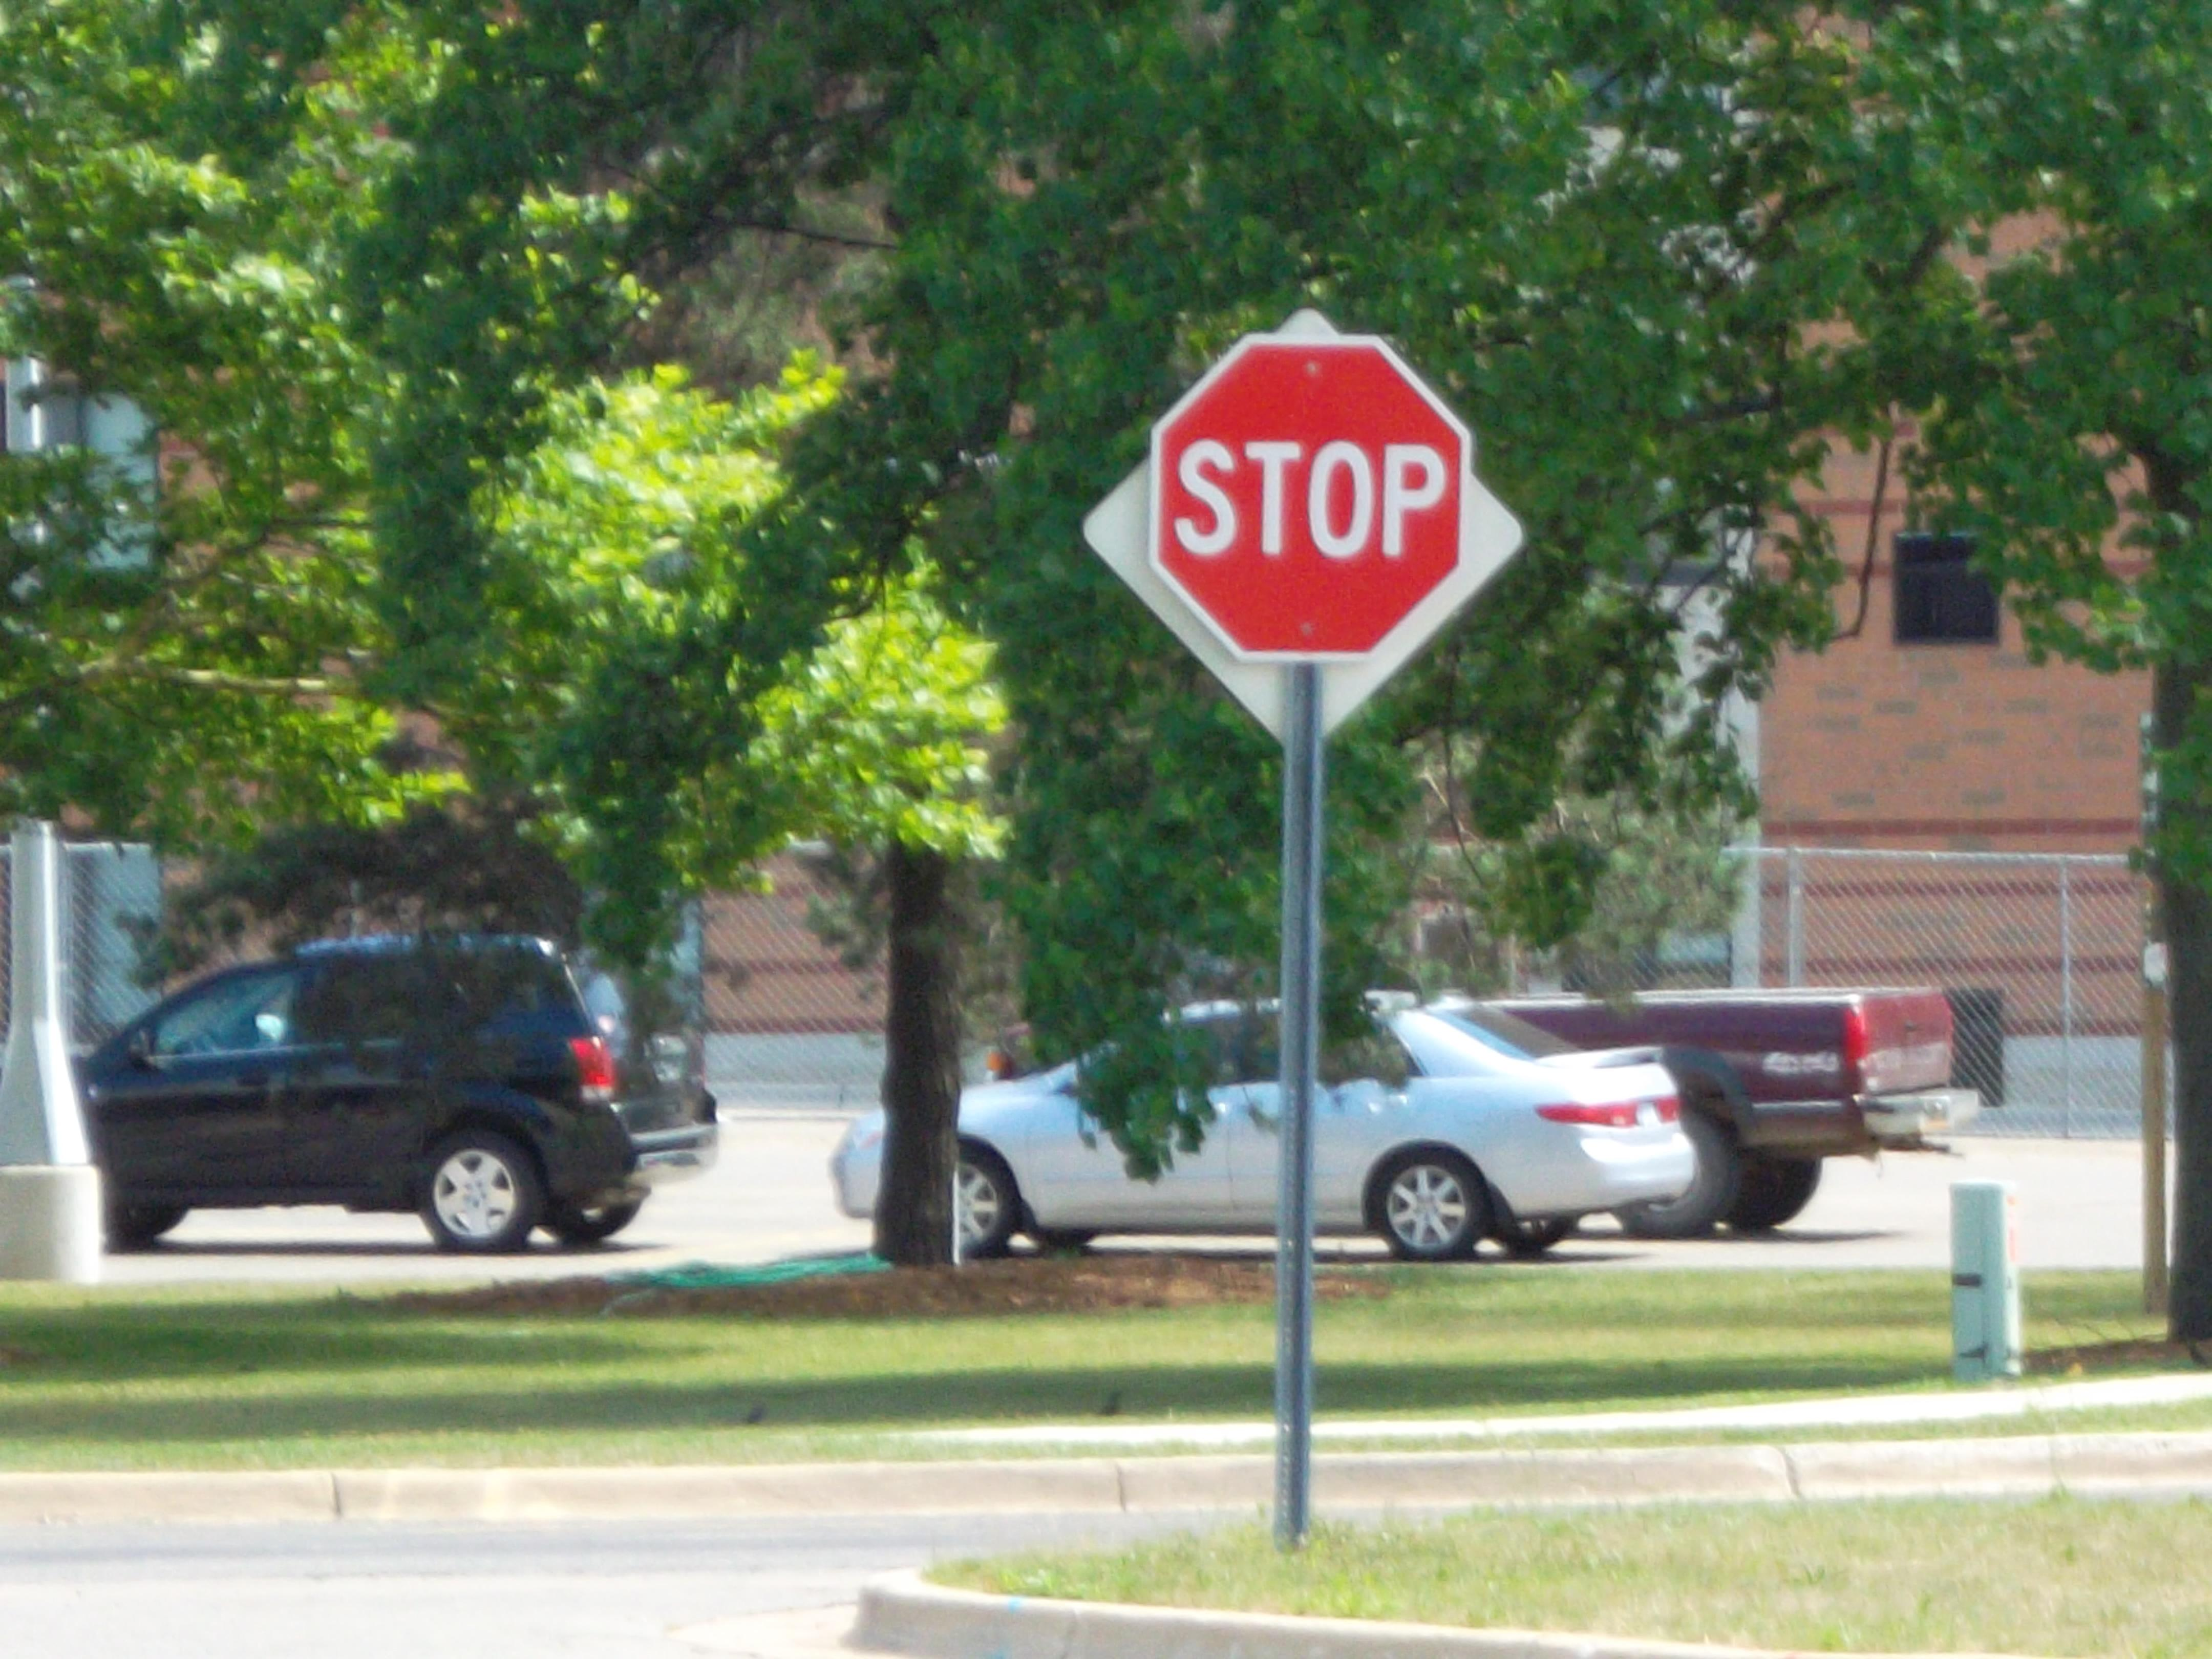stop: (1136, 314, 1486, 671)
